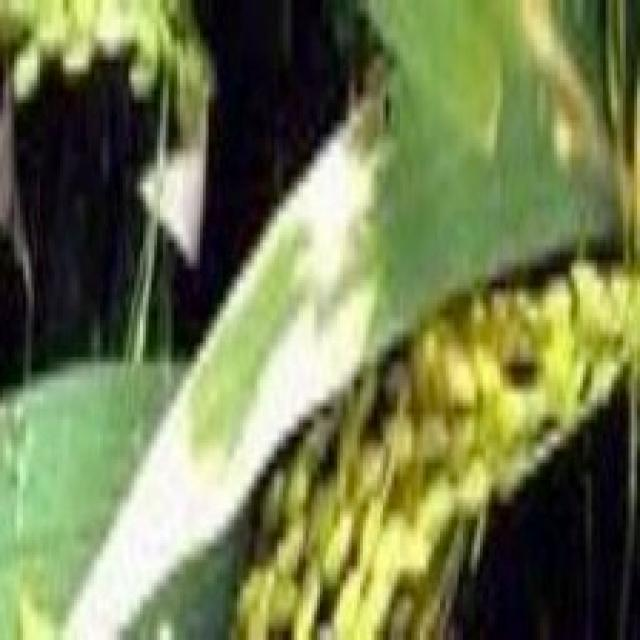Unhealthy: (55, 112, 398, 640), (513, 0, 598, 175)
